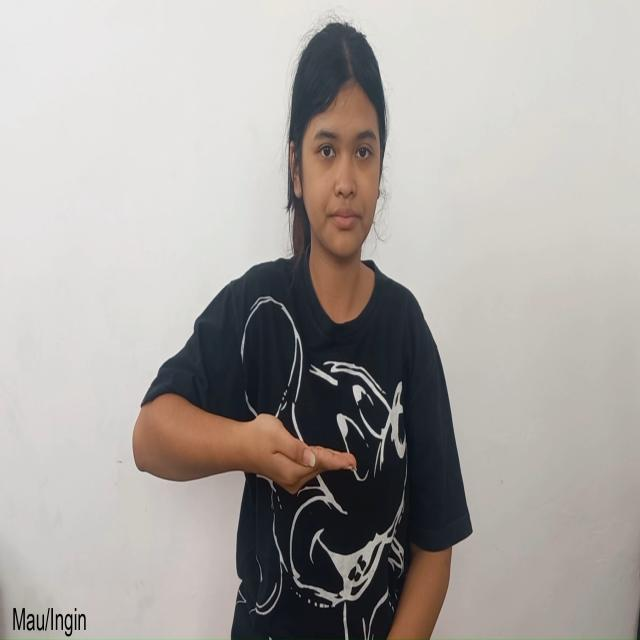Mau-Ingin -BISINDO-: (130, 387, 365, 496)
